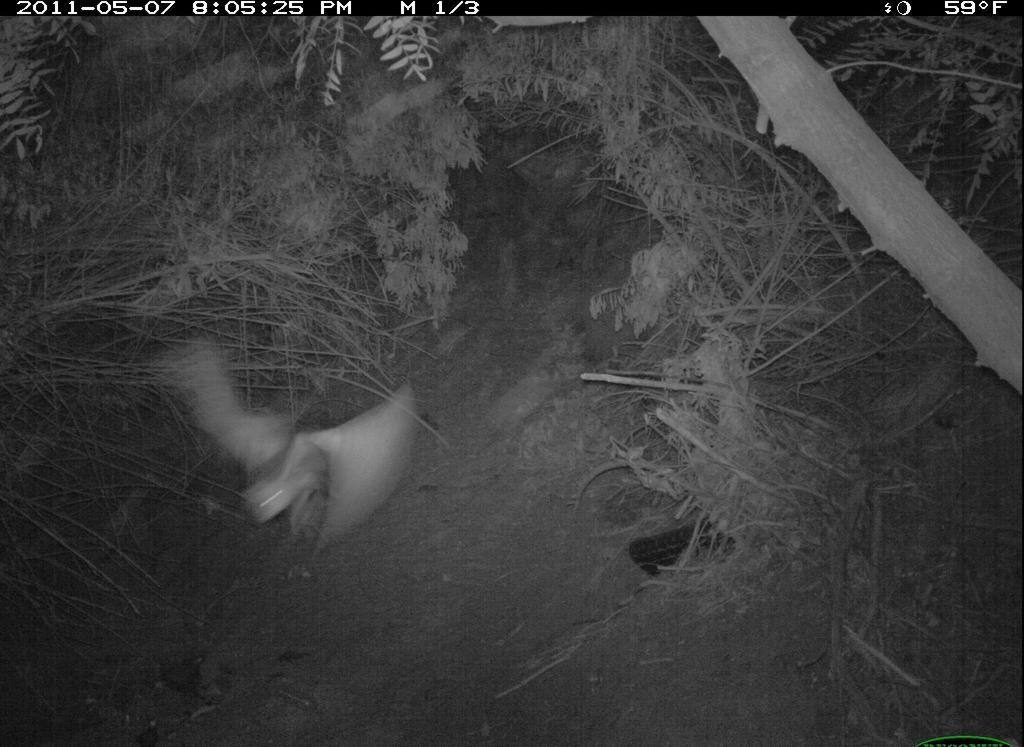bird: (141, 337, 429, 565)
